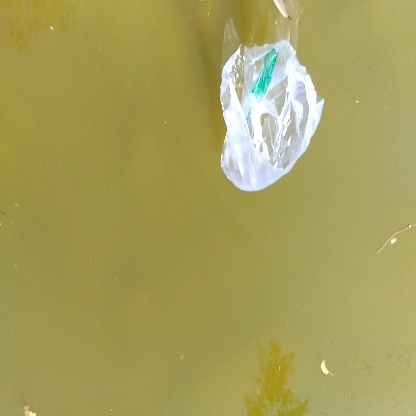plastic-bag: (212, 40, 327, 197)
